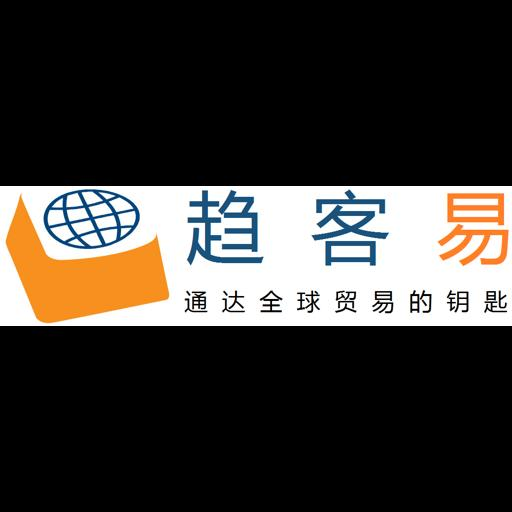TradeKey: (0, 186, 512, 326)
